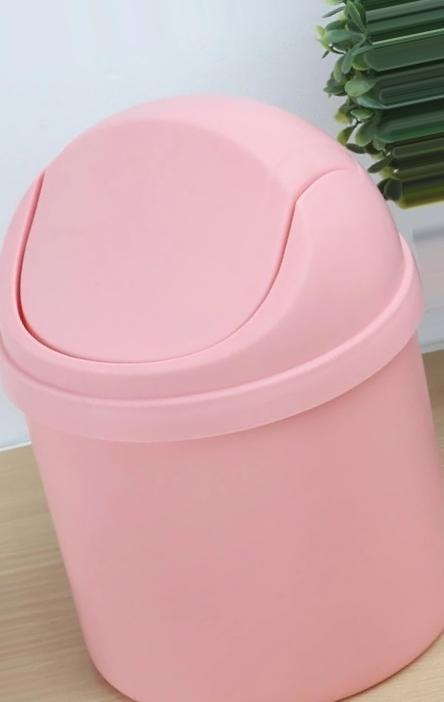Bote de Basura: (0, 99, 443, 701)
